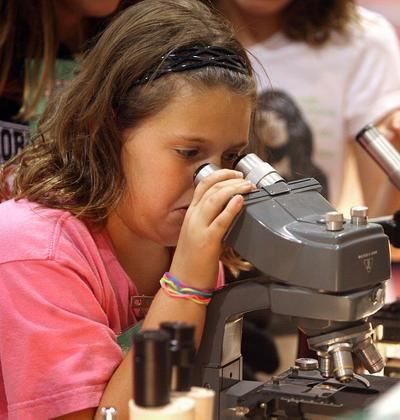person: (1, 3, 254, 419)
